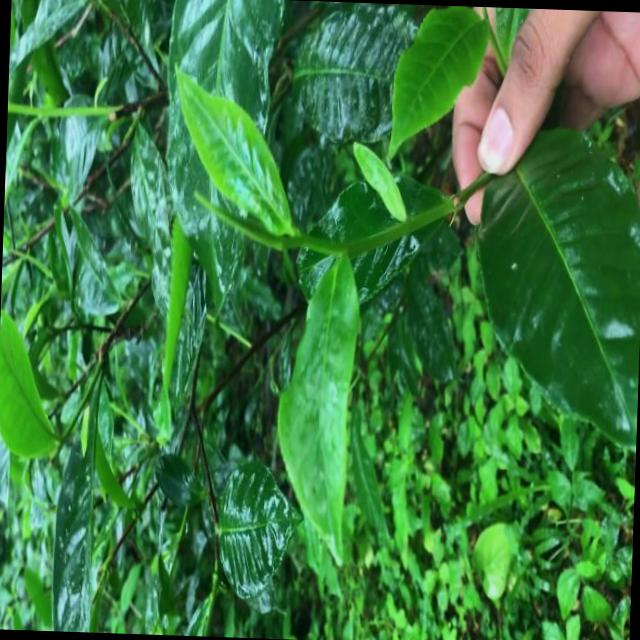Stem: (344, 235, 370, 258), (7, 100, 16, 111)
